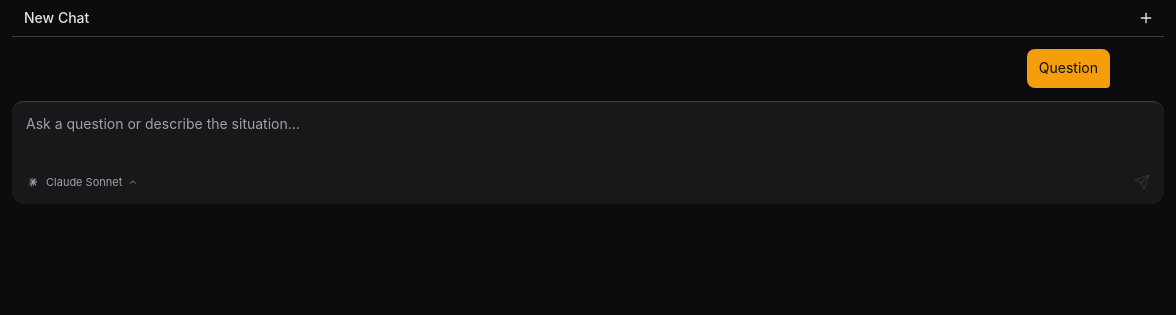
Scenario: AIChatPanel scroll behavior › keeps the session-expired divider when the stream then answers
Type "Continue" into the text box at (588, 132), box top-left (12, 102), bottom-right (1164, 162)
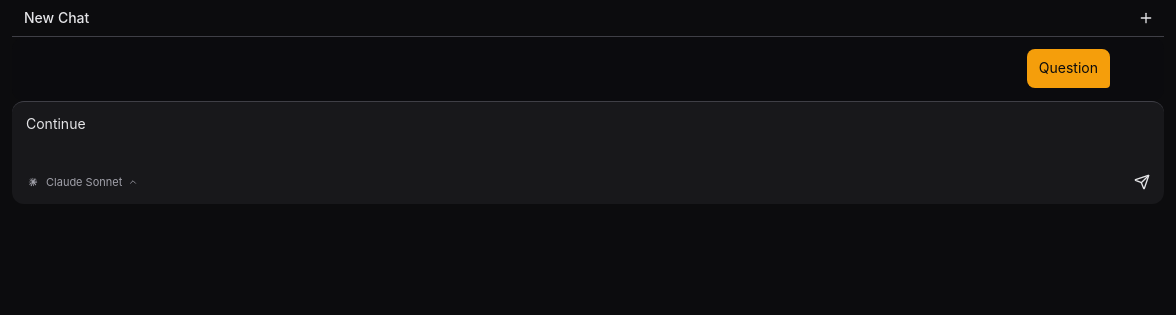
Click the button titled "Send message" at (1142, 182), box top-left (1128, 168), bottom-right (1156, 196)
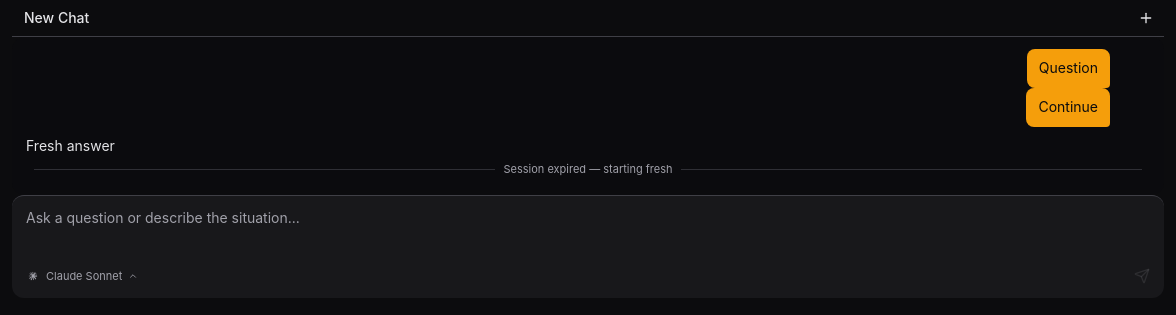
Check: the text "Session expired — starting fresh" is shown, box top-left (504, 161), bottom-right (673, 178)
Check: the text "Fresh answer" is shown, box top-left (26, 136), bottom-right (115, 154)
